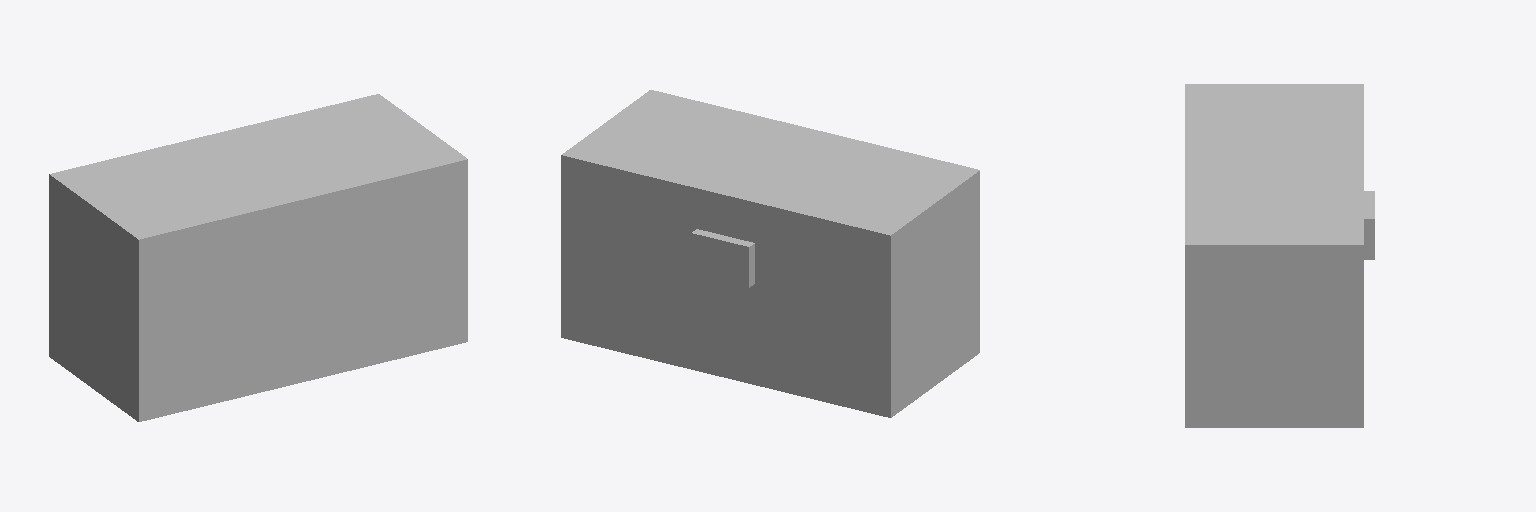
Rendered from Chest.obj.
3 renders of one model, left to right at view 1: azimuth 30°, elevation 25°; view 2: azimuth 150°, elevation 25°; view 3: azimuth 270°, elevation 25°, orthographic.
Visible parts, largest first — view 1: object 1; view 2: object 1; view 3: object 1.
Part boxes in pixels (bbox=[...]): object 1: bbox=[49, 94, 467, 421]; object 1: bbox=[561, 90, 979, 417]; object 1: bbox=[1185, 84, 1374, 427].
Size of the model in its own units: 3.4 by 1.8 by 1.7.